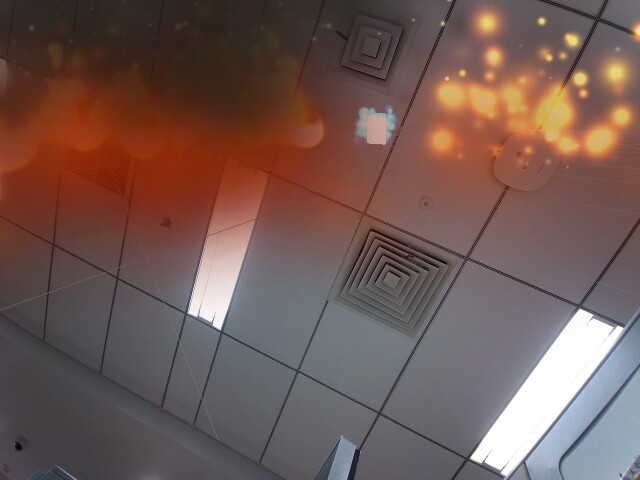fire: (0, 110, 44, 179), (118, 114, 169, 160)
